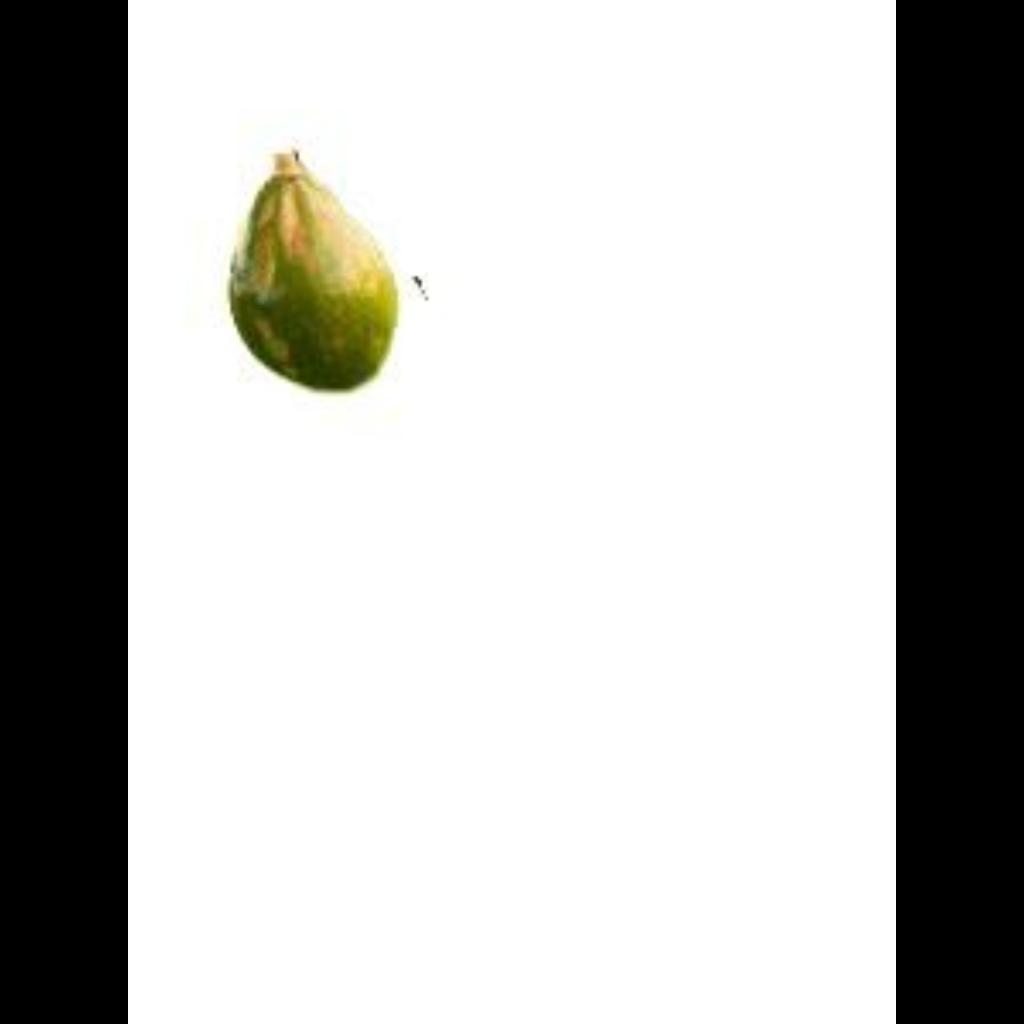sunblotch: (191, 136, 409, 410)
